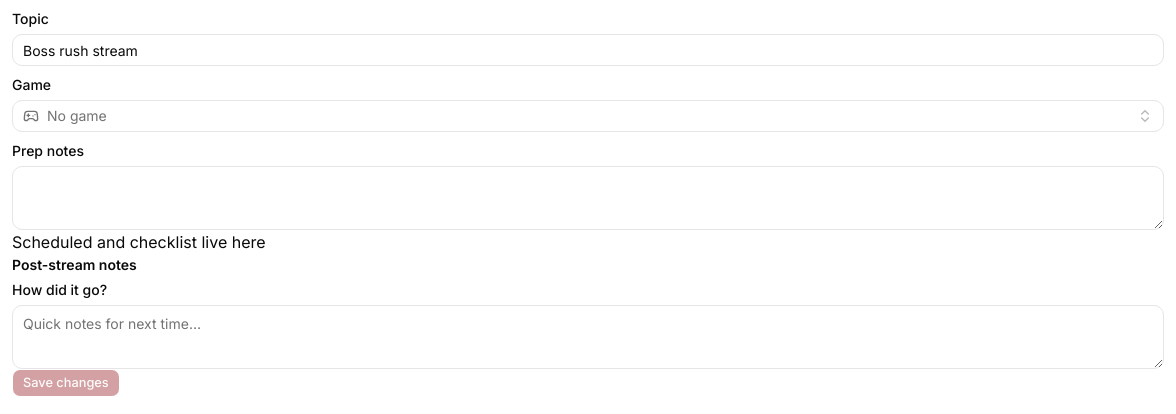
StreamDetailsForm › stays disabled until something is actually edited, and goes quiet again after a save
Expected: the button "Save changes" is disabled, [12,369,120,397]
In the text box labelled "How did it go?": point(588, 337) [12,305,1164,369], type "Good run"
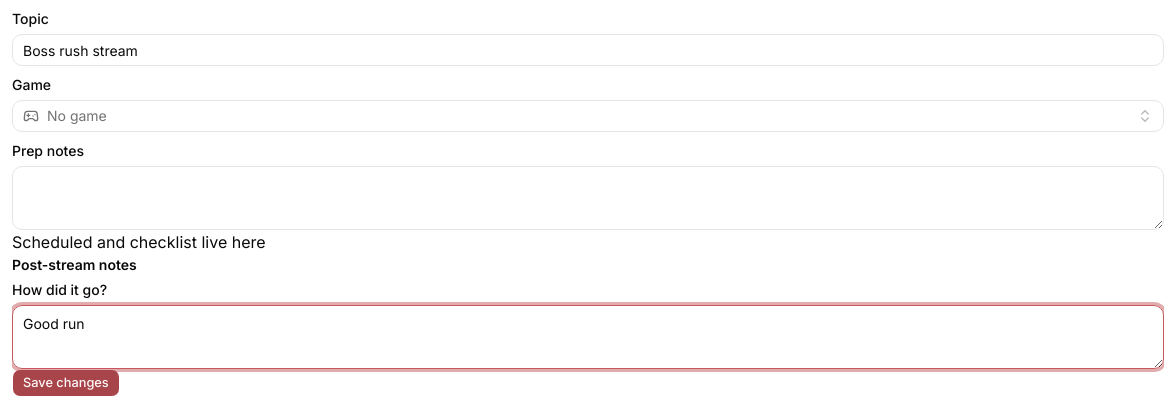
Expected: the button "Save changes" is enabled
Click the button "Save changes": point(66, 383) [12,369,120,397]
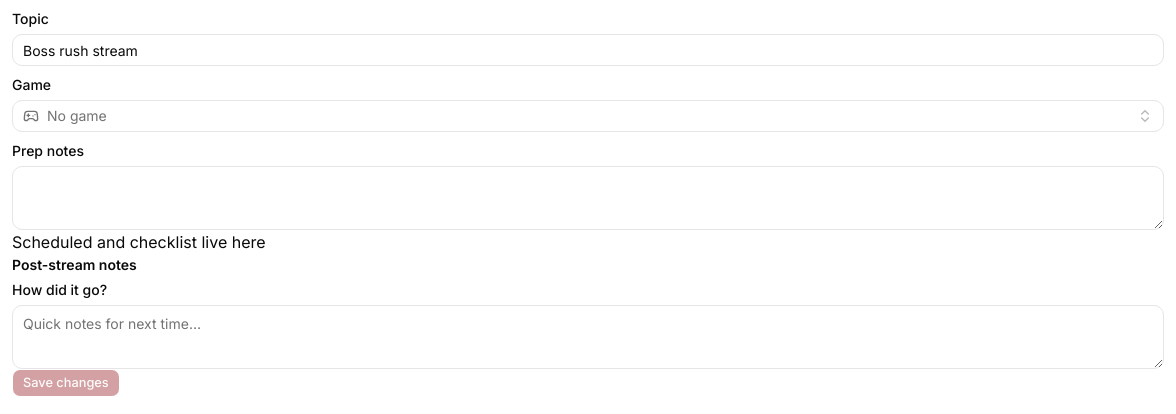
Expected: the button "Save changes" is disabled, [12,369,120,397]
